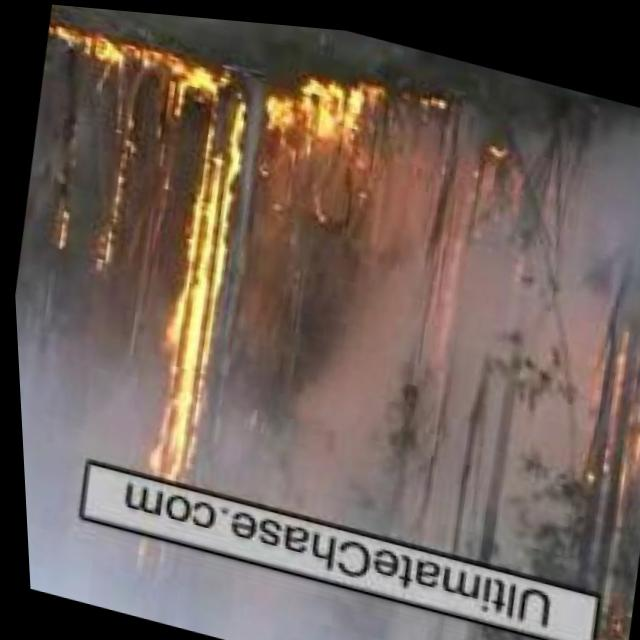Fire: (89, 46, 262, 558), (565, 307, 640, 525), (262, 55, 390, 176), (42, 23, 162, 88), (465, 128, 520, 201)
